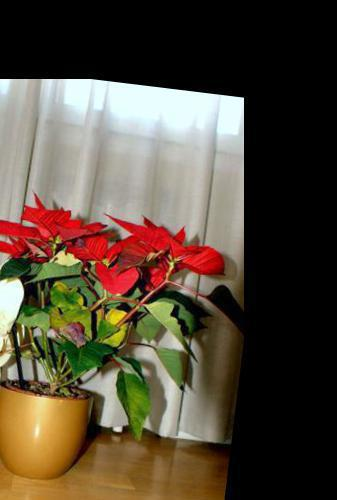Matera: (0, 169, 247, 500)
